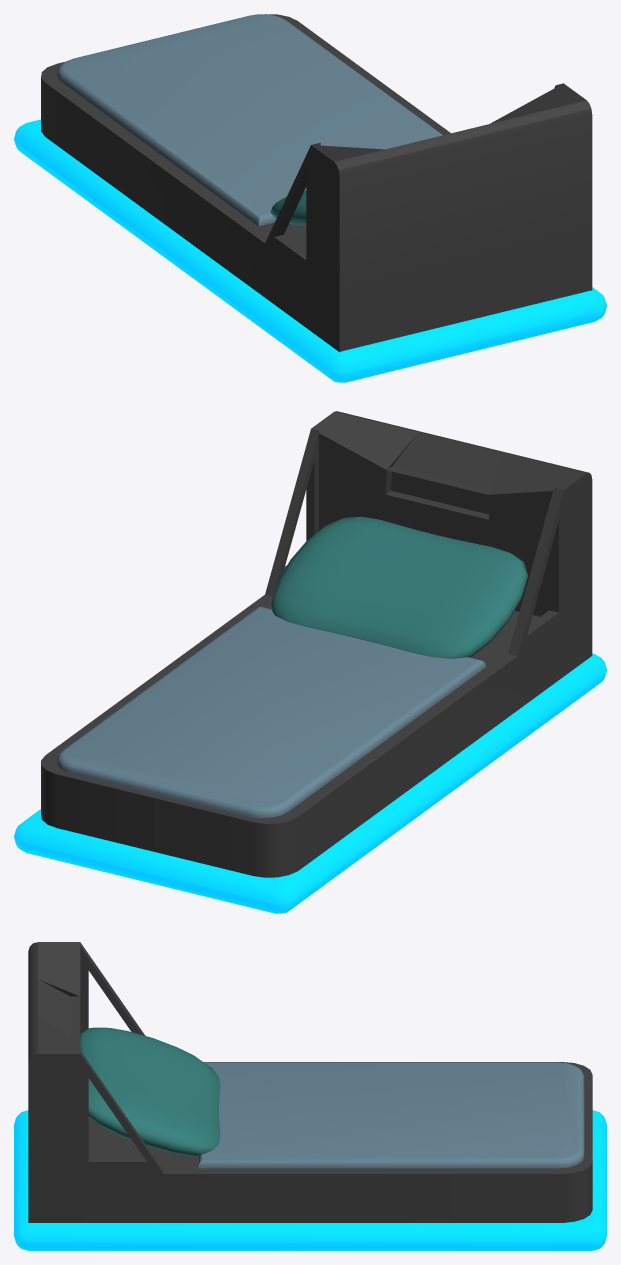
File: Bed_4.fbx
3 views of the same model, one above another, from view 1: azimuth 30°, elevation 25°; view 2: azimuth 150°, elevation 25°; view 3: azimuth 270°, elevation 25° (orthographic). The views are drawn at different scales.
Visible parts, largest first — view 1: Frame, Matrass, Pillow; view 2: Frame, Matrass, Pillow; view 3: Frame, Matrass, Pillow.
Part boxes in pixels (x1=…): Frame: x1=14, y1=14, x2=606, y2=382; Matrass: x1=57, y1=14, x2=442, y2=226; Pillow: x1=270, y1=190, x2=306, y2=226; Frame: x1=14, y1=411, x2=606, y2=913; Matrass: x1=57, y1=606, x2=485, y2=817; Pillow: x1=270, y1=516, x2=527, y2=658; Frame: x1=14, y1=942, x2=606, y2=1250; Matrass: x1=198, y1=1062, x2=584, y2=1168; Pillow: x1=80, y1=1027, x2=220, y2=1155.
Size of the model in its own units: 150 by 111 by 304.
